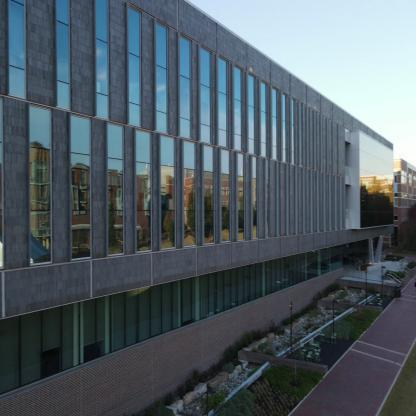Fitts- Woolard: (0, 0, 396, 400)
